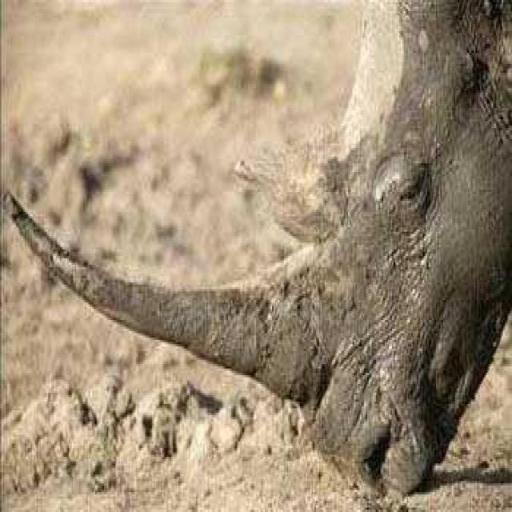Rhino: (6, 0, 510, 506)
